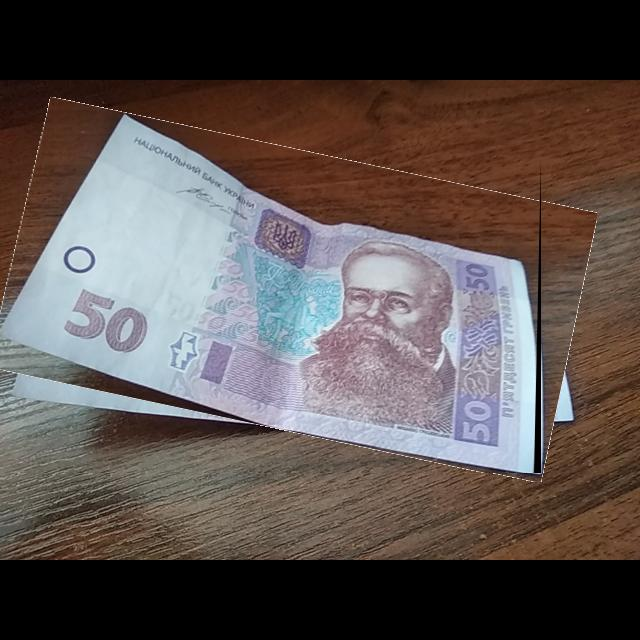50uah: (0, 114, 536, 474)
